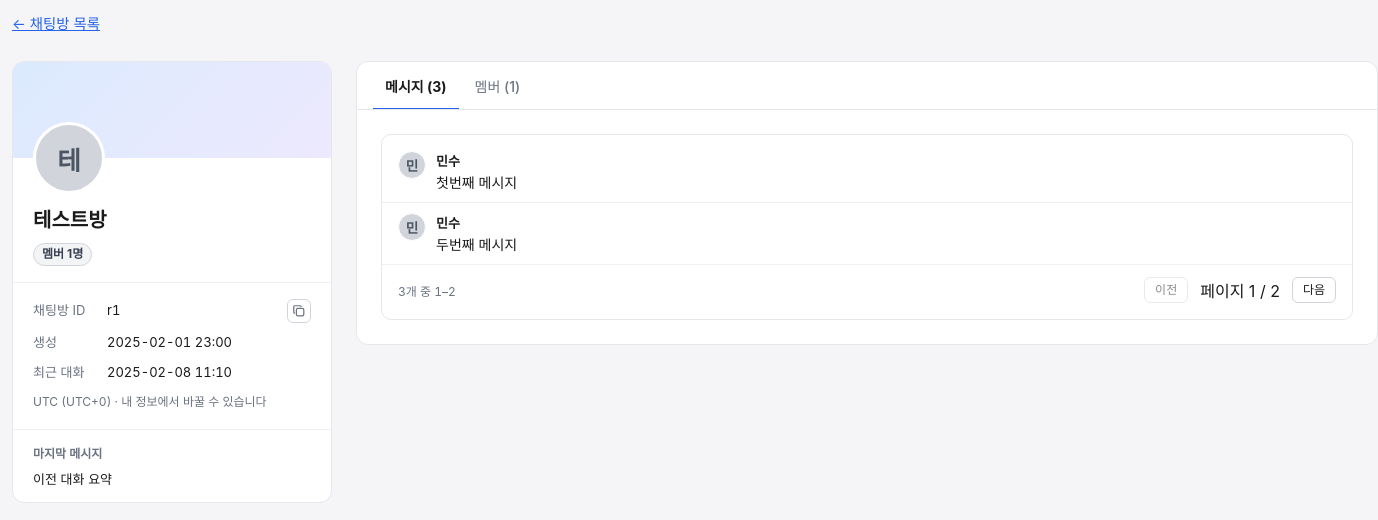
RoomDetailPage › paginates messages via the Pager
The image size is (1378, 520).
Expected: the text "첫번째 메시지" is shown, [436,174,517,191]
Expected: the text "두번째 메시지" is shown, [436,236,517,253]
Step 1. Click the button "다음" → (1314, 290), box [1292,277,1336,303]
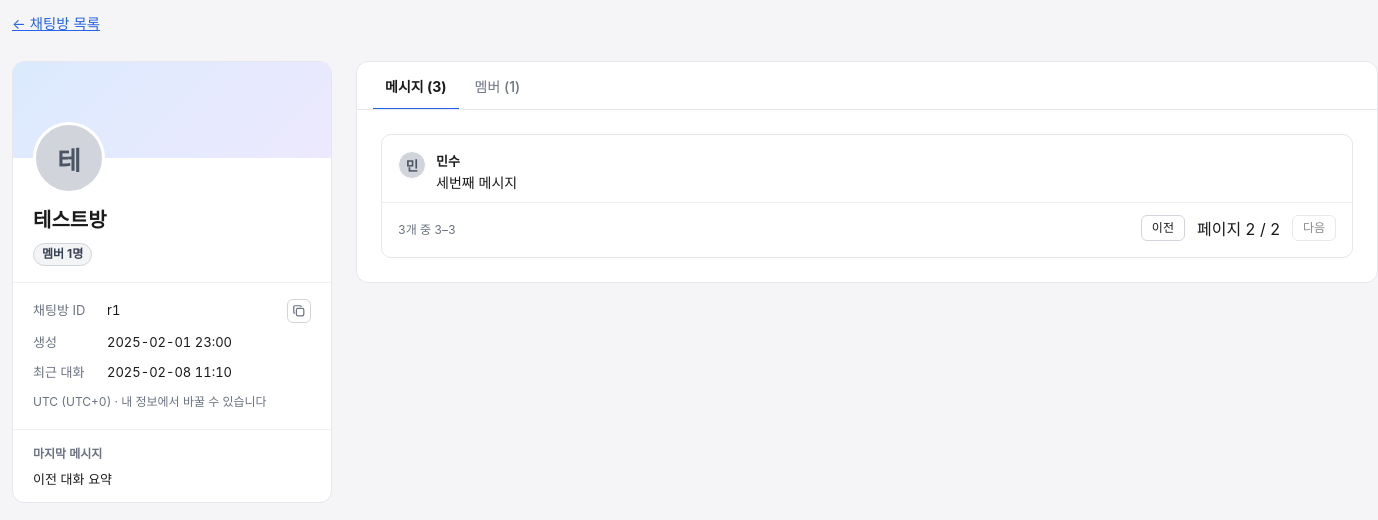
Expected: the text "세번째 메시지" is shown, [436,174,517,191]
Expected: the text "3개 중 3–3" is shown, [398,220,456,237]
